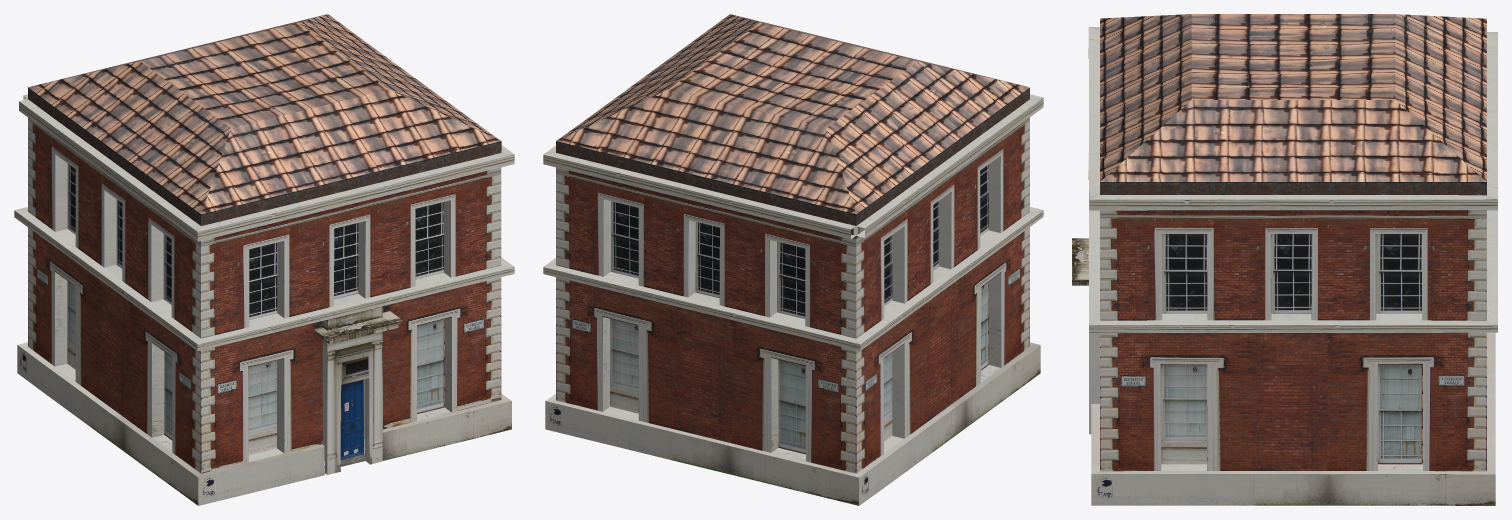
The picture shows the model from 3 angles, left to right: view 1: azimuth 30°, elevation 25°; view 2: azimuth 150°, elevation 25°; view 3: azimuth 270°, elevation 25°; orthographic projection. The views are drawn at different scales.
Parts seen in each view (by area): view 1: Building_Apartment_13; view 2: Building_Apartment_13; view 3: Building_Apartment_13.
Boxes of the visible parts, box(x1,y1,x2,y2) form: Building_Apartment_13: box(14, 14, 514, 505); Building_Apartment_13: box(543, 14, 1043, 505); Building_Apartment_13: box(1072, 14, 1497, 505).
Size of the model in its own units: 625 by 614 by 652.
Materials: 1 (1 with a texture image).
